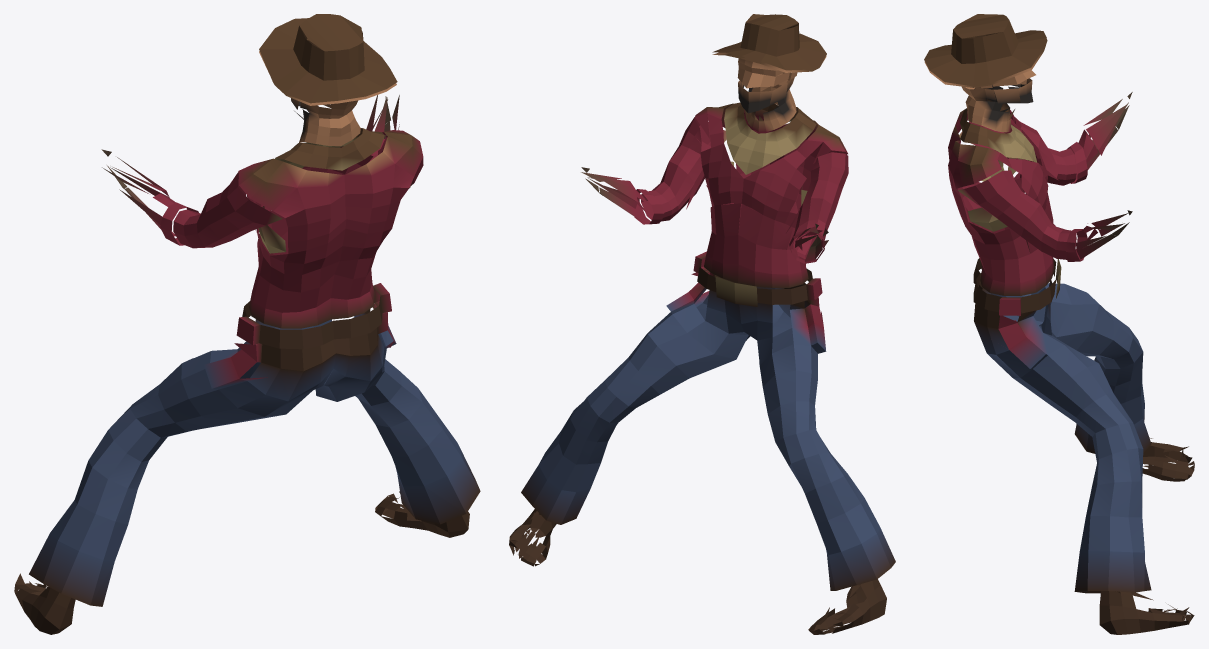
Rendered from man_5_ride.fbx.
3 views of the same model, side by side, from view 1: azimuth 30°, elevation 25°; view 2: azimuth 150°, elevation 25°; view 3: azimuth 270°, elevation 25° (orthographic). The views are drawn at different scales.
Visible parts, largest first — view 1: cowboy; view 2: cowboy; view 3: cowboy.
Boxes of the visible parts, x1=… form: cowboy: x1=14, y1=14, x2=480, y2=634; cowboy: x1=509, y1=14, x2=895, y2=634; cowboy: x1=924, y1=14, x2=1194, y2=634.
Bounding box in the file's own units: 0.6436 × 0.882 × 0.4066.
